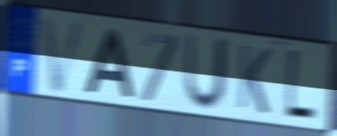7: (141, 30, 179, 104)
A: (82, 26, 136, 100)
K: (235, 42, 273, 117)
L: (283, 45, 318, 125)
U: (181, 31, 232, 114)
V: (39, 15, 90, 95)
